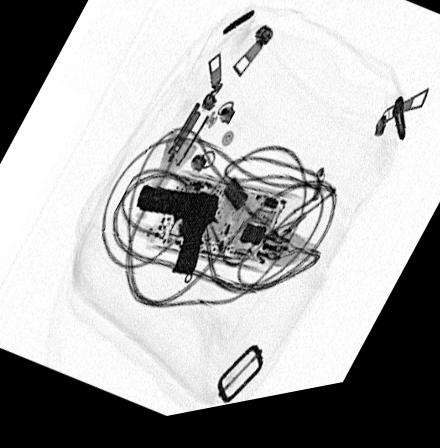Gun: (132, 186, 218, 283)
